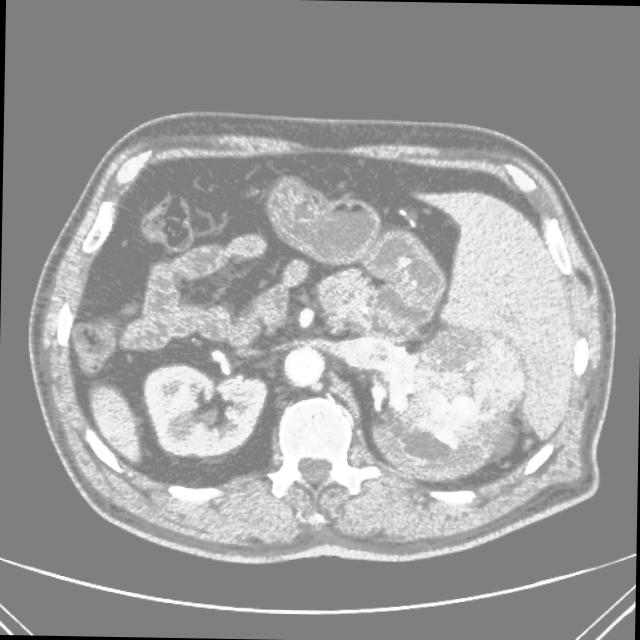TUMOR: (100, 305, 546, 490)
